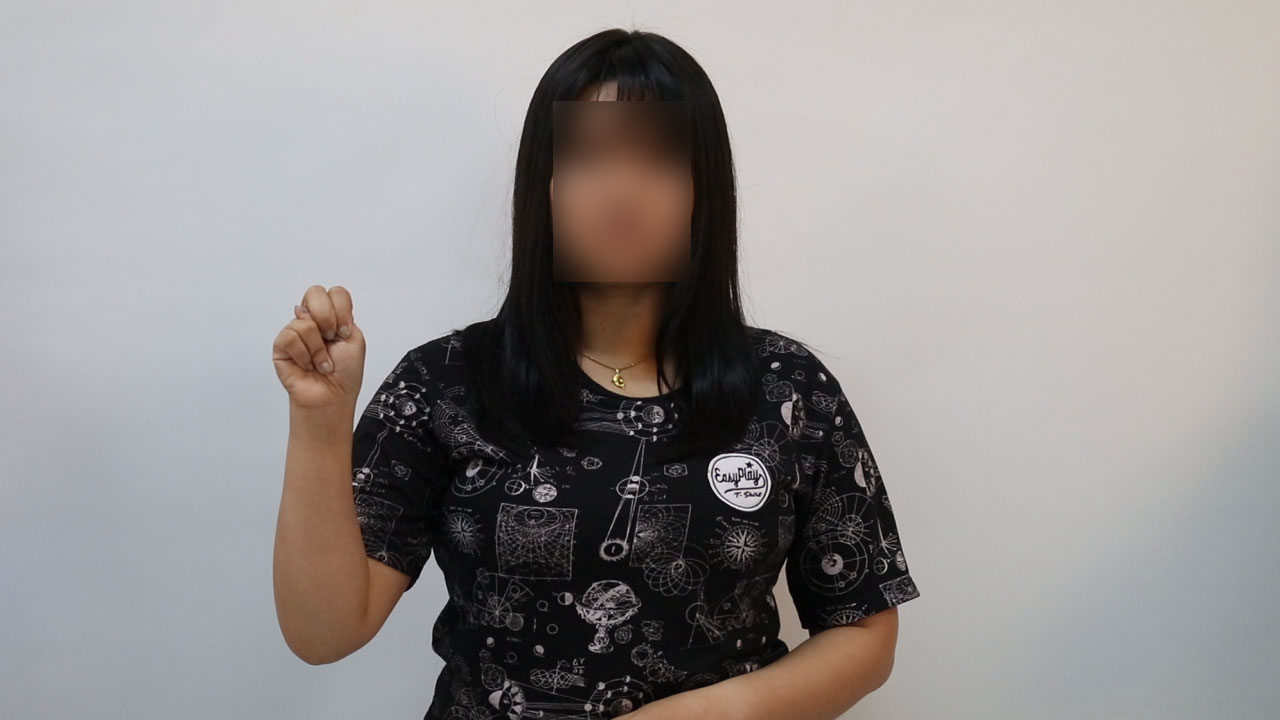nor: (262, 271, 377, 434)
